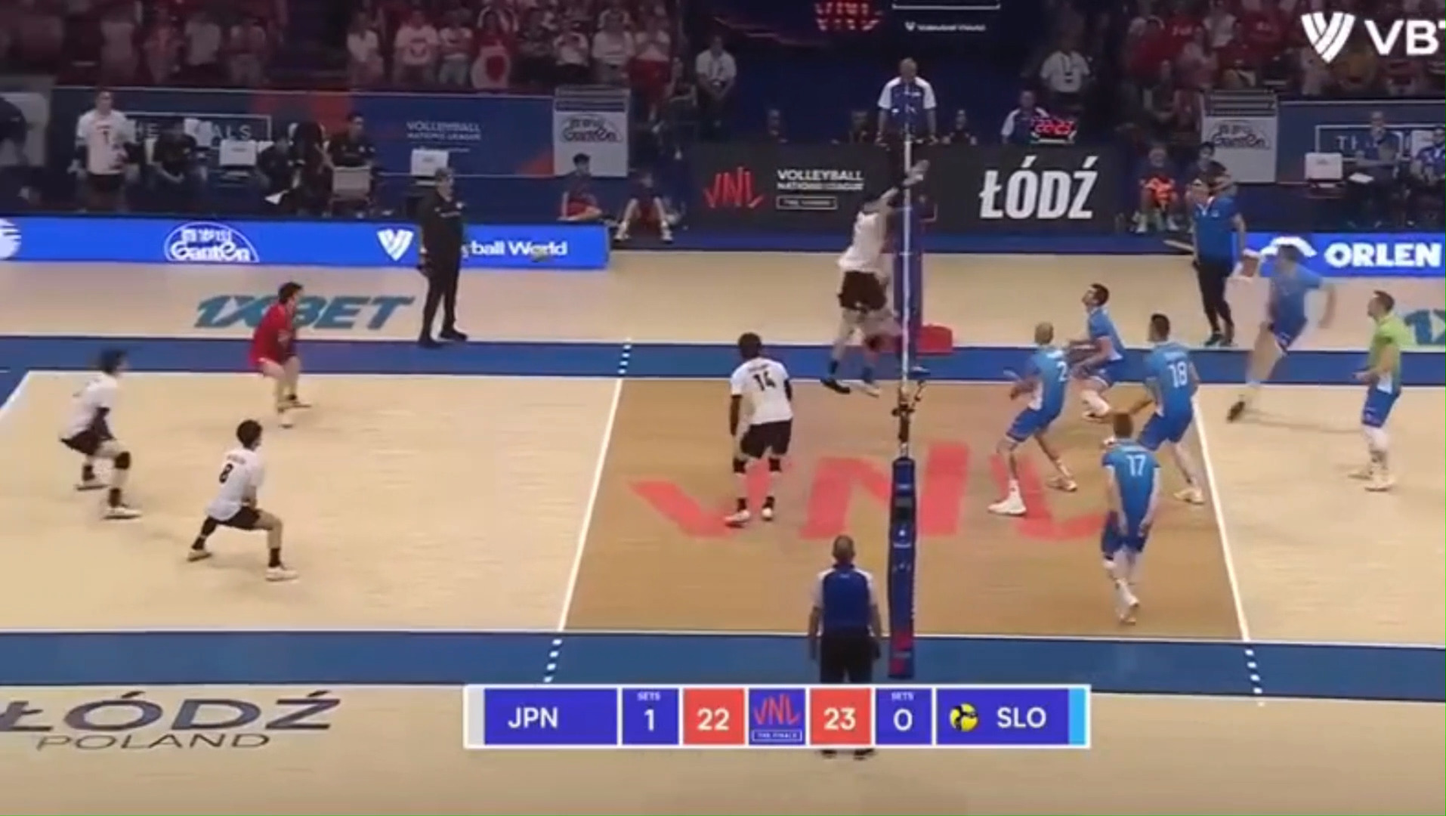player: (1228, 241, 1334, 421), (988, 322, 1077, 516), (1131, 313, 1203, 504), (1101, 413, 1159, 622), (1353, 290, 1407, 492), (1068, 284, 1126, 420)
player 1: (188, 419, 294, 580), (820, 189, 898, 394), (60, 349, 141, 519), (725, 332, 794, 527), (249, 283, 305, 413)
referee: (808, 535, 882, 684), (1191, 175, 1246, 347), (417, 168, 468, 348), (876, 58, 937, 174)
